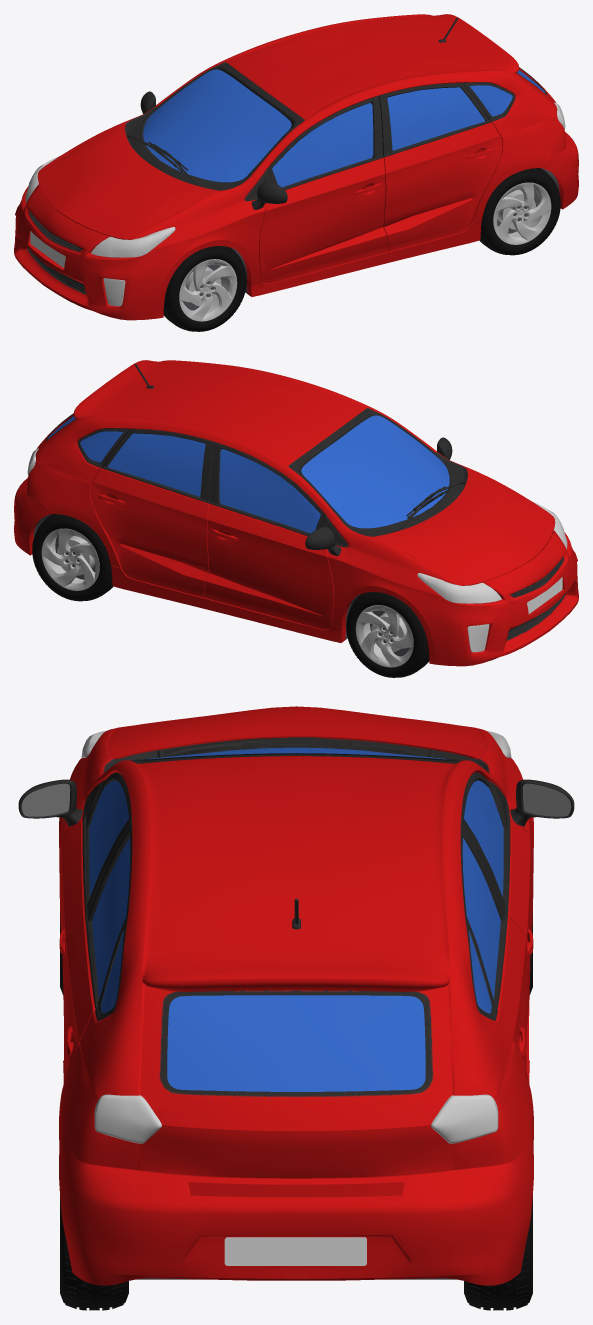
The model's file is Car.obj.
3 views of the same model, one above another, from view 1: azimuth 30°, elevation 25°; view 2: azimuth 150°, elevation 25°; view 3: azimuth 270°, elevation 25° (orthographic). The views are drawn at different scales.
Parts seen in each view (by area): view 1: chassis_hi_001_Mesh.041, door_lf_ok_001_Mesh.045, door_lr_ok_001_Mesh.042, Wheel.001, window_001_Mesh.024, window_001.001_Mesh.005, front_la02_001_Mesh.022, Side_Mirrors_001_Mesh.044, chassis_hi_001.001_Mesh.007; view 2: chassis_hi_001_Mesh.041, door_lf_ok_001_Mesh.045, door_lr_ok_001_Mesh.042, Wheel.001, window_001_Mesh.024, window_001.001_Mesh.005, front_la02_001_Mesh.022, Side_Mirrors_001_Mesh.044, chassis_hi_001.001_Mesh.007; view 3: chassis_hi_001_Mesh.041, window_001_Mesh.024, window_001.001_Mesh.005, door_lr_ok_001_Mesh.042, door_lf_ok_001_Mesh.045, rear_lan01_001.001_Mesh.002, Wheel.001, Plate_Holder_001.001_Mesh.003, Plane, Side_Mirrors_001_Mesh.044, Cylinder.002_Cylinder.003.
Boxes of the visible parts, left/top/right/bottom form: chassis_hi_001_Mesh.041: left=14, top=14, right=578, bottom=320; door_lf_ok_001_Mesh.045: left=259, top=96, right=388, bottom=283; door_lr_ok_001_Mesh.042: left=379, top=83, right=502, bottom=251; Wheel.001: left=163, top=168, right=560, bottom=331; window_001_Mesh.024: left=143, top=69, right=545, bottom=182; window_001.001_Mesh.005: left=272, top=85, right=512, bottom=187; front_la02_001_Mesh.022: left=25, top=156, right=175, bottom=257; Side_Mirrors_001_Mesh.044: left=140, top=91, right=287, bottom=209; chassis_hi_001.001_Mesh.007: left=103, top=278, right=125, bottom=306; chassis_hi_001_Mesh.041: left=14, top=360, right=578, bottom=666; door_lf_ok_001_Mesh.045: left=204, top=442, right=333, bottom=629; door_lr_ok_001_Mesh.042: left=90, top=429, right=213, bottom=597; Wheel.001: left=32, top=514, right=429, bottom=677; window_001_Mesh.024: left=47, top=415, right=449, bottom=528; window_001.001_Mesh.005: left=80, top=431, right=320, bottom=533; front_la02_001_Mesh.022: left=417, top=502, right=567, bottom=603; Side_Mirrors_001_Mesh.044: left=305, top=437, right=452, bottom=555; chassis_hi_001.001_Mesh.007: left=467, top=624, right=489, bottom=652; chassis_hi_001_Mesh.041: left=59, top=706, right=533, bottom=1285; window_001_Mesh.024: left=143, top=747, right=449, bottom=1091; window_001.001_Mesh.005: left=89, top=780, right=503, bottom=1013; door_lr_ok_001_Mesh.042: left=63, top=822, right=529, bottom=1085; door_lf_ok_001_Mesh.045: left=59, top=772, right=533, bottom=1059; rear_lan01_001.001_Mesh.002: left=94, top=1094, right=498, bottom=1143; Wheel.001: left=60, top=913, right=532, bottom=1310; Plate_Holder_001.001_Mesh.003: left=224, top=1237, right=366, bottom=1265; Plane: left=21, top=783, right=571, bottom=816; Side_Mirrors_001_Mesh.044: left=18, top=779, right=574, bottom=826; Cylinder.002_Cylinder.003: left=157, top=738, right=371, bottom=757.
Bounding box in the file's own units: 4.51 × 1.71 × 2.18.
10 materials, 1 textured.
